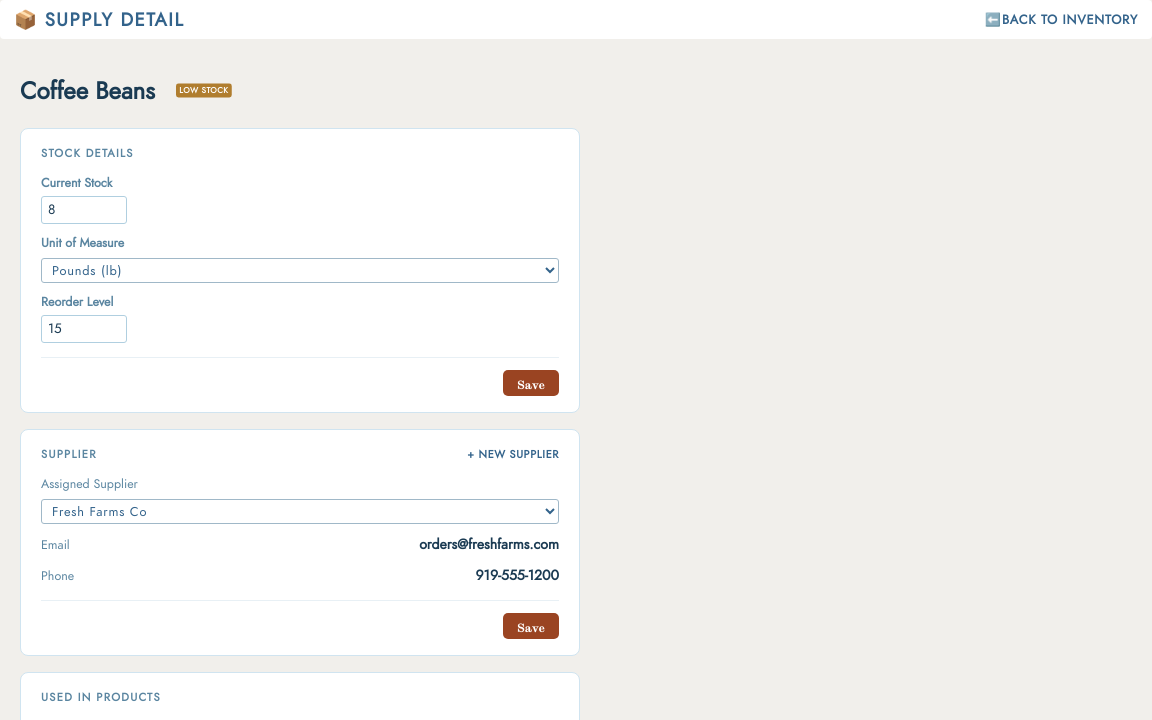
Test: AdminInventoryDetailPage › saves stock updates
Replace the text in the number field showing "8" below "Current Stock" with "20" at coordinates (84, 210), box [41,196,127,224]
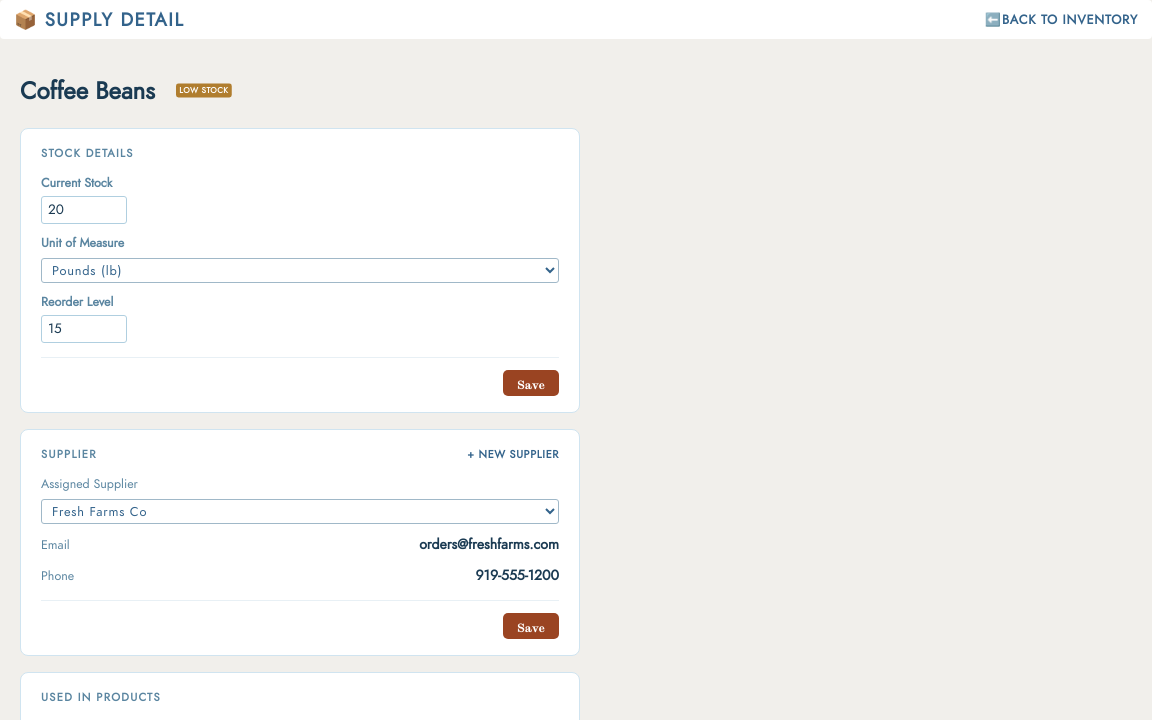
Click the 1st button "Save" at coordinates (531, 383), box [503,370,559,396]
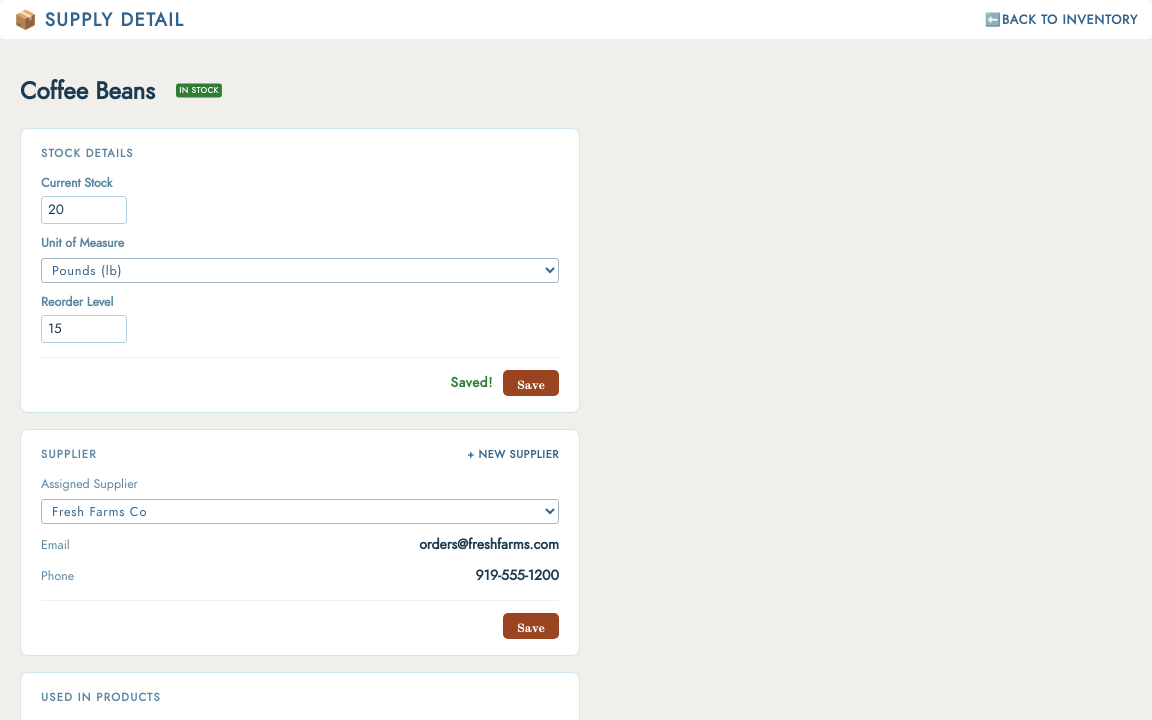
Result: the text "Saved!" is shown at [450,373,493,393]
